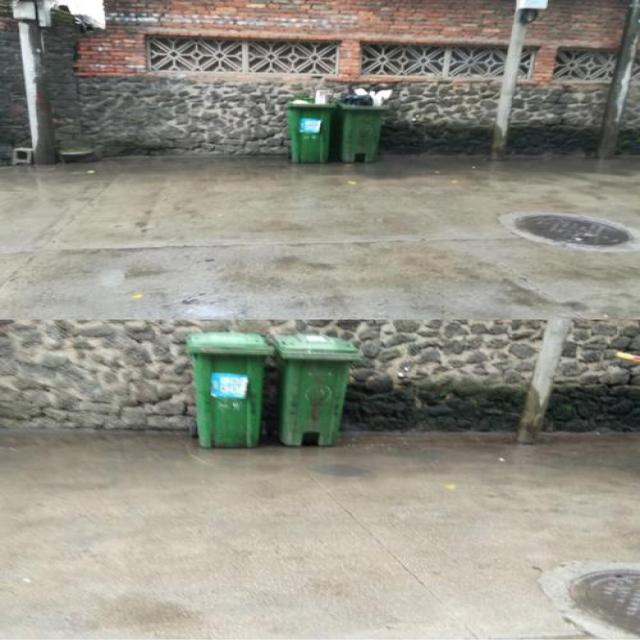garbage_bin: (270, 333, 362, 446), (184, 330, 269, 448)
overflow: (334, 88, 390, 162), (283, 90, 334, 162)
